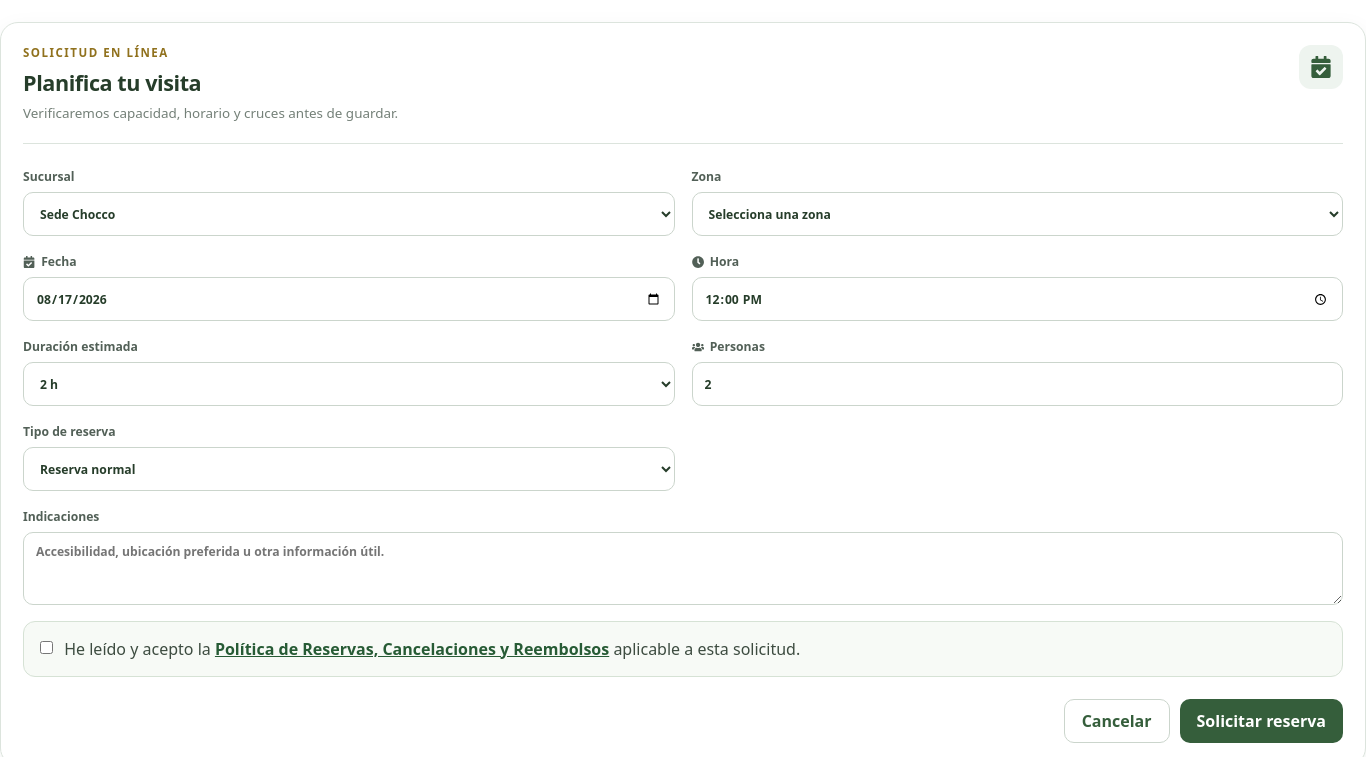
Test: ReservationForm › muestra junto al formulario el error devuelto por el servidor
Select "Salón · hasta 20 personas" in the dropdown labelled "Zona": (1017,214) left=692, top=192, right=1343, bottom=236
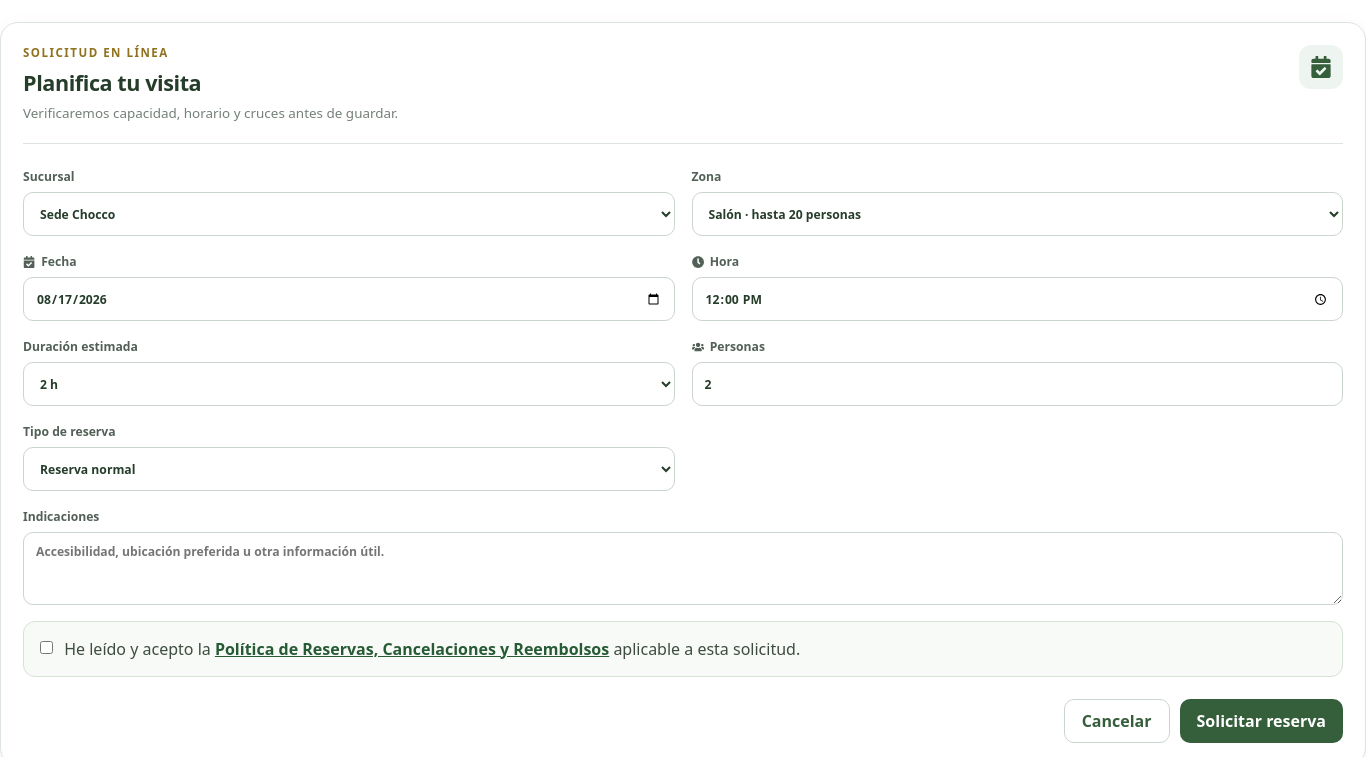
Click the checkbox labelled "He leído y acepto": (46,647) left=40, top=640, right=53, bottom=654
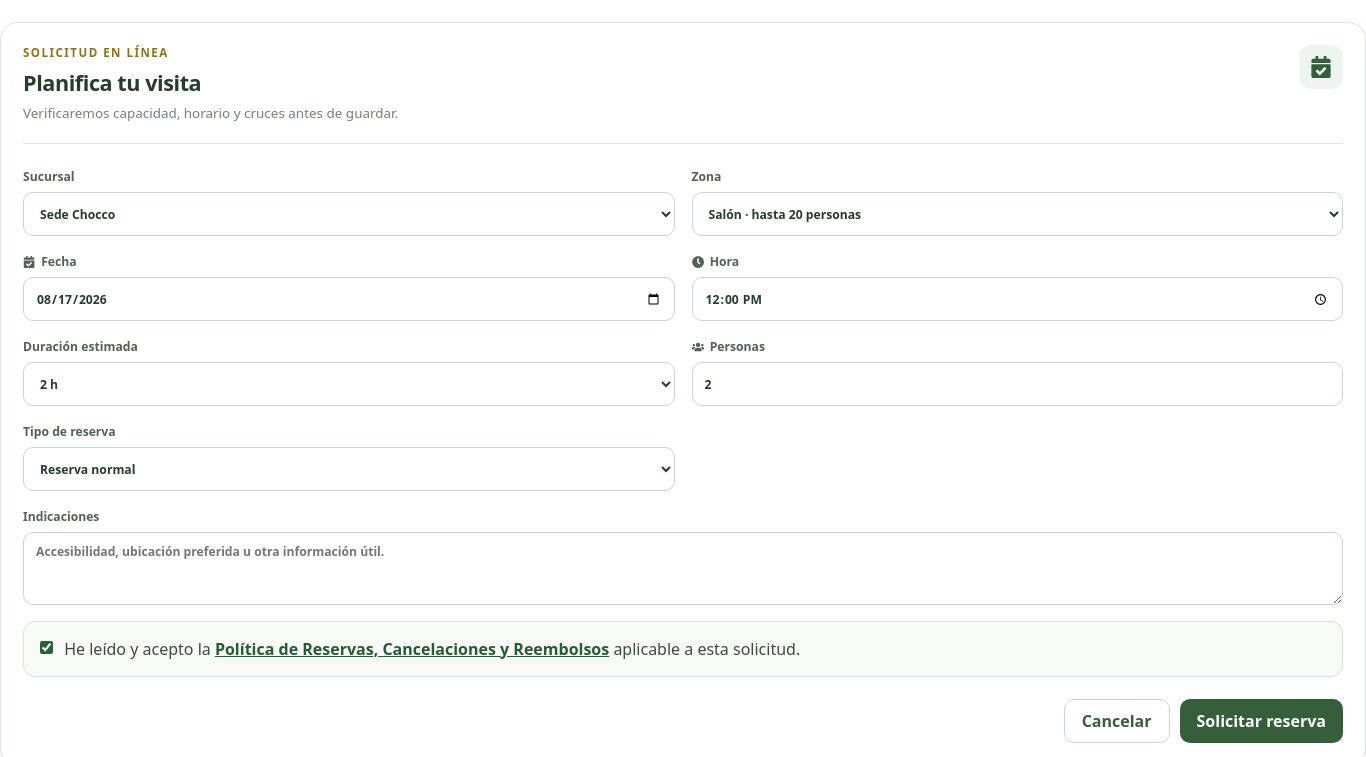
In the date field labelled "Fecha": (349,299) left=23, top=277, right=674, bottom=321, type "2030-08-08"
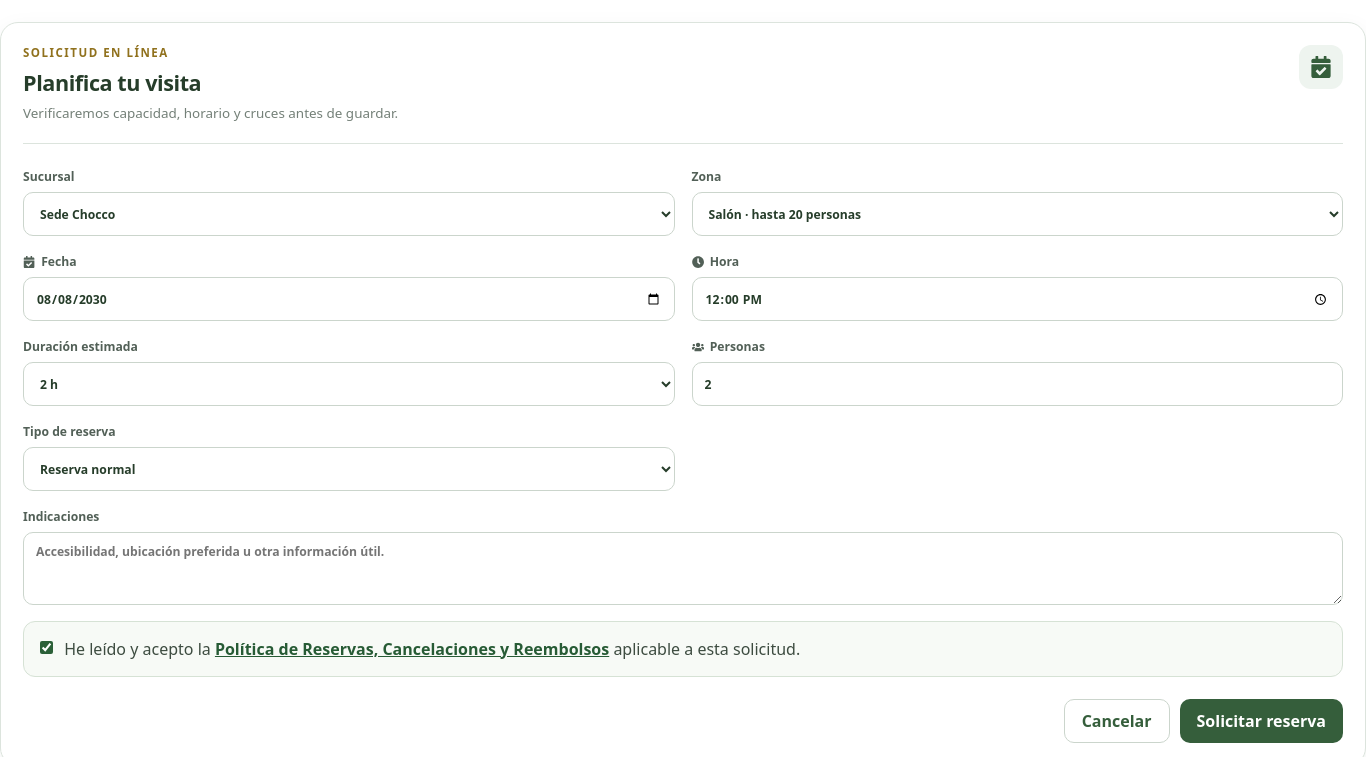
Click the button "Solicitar reserva": (1261,721) left=1180, top=699, right=1343, bottom=743
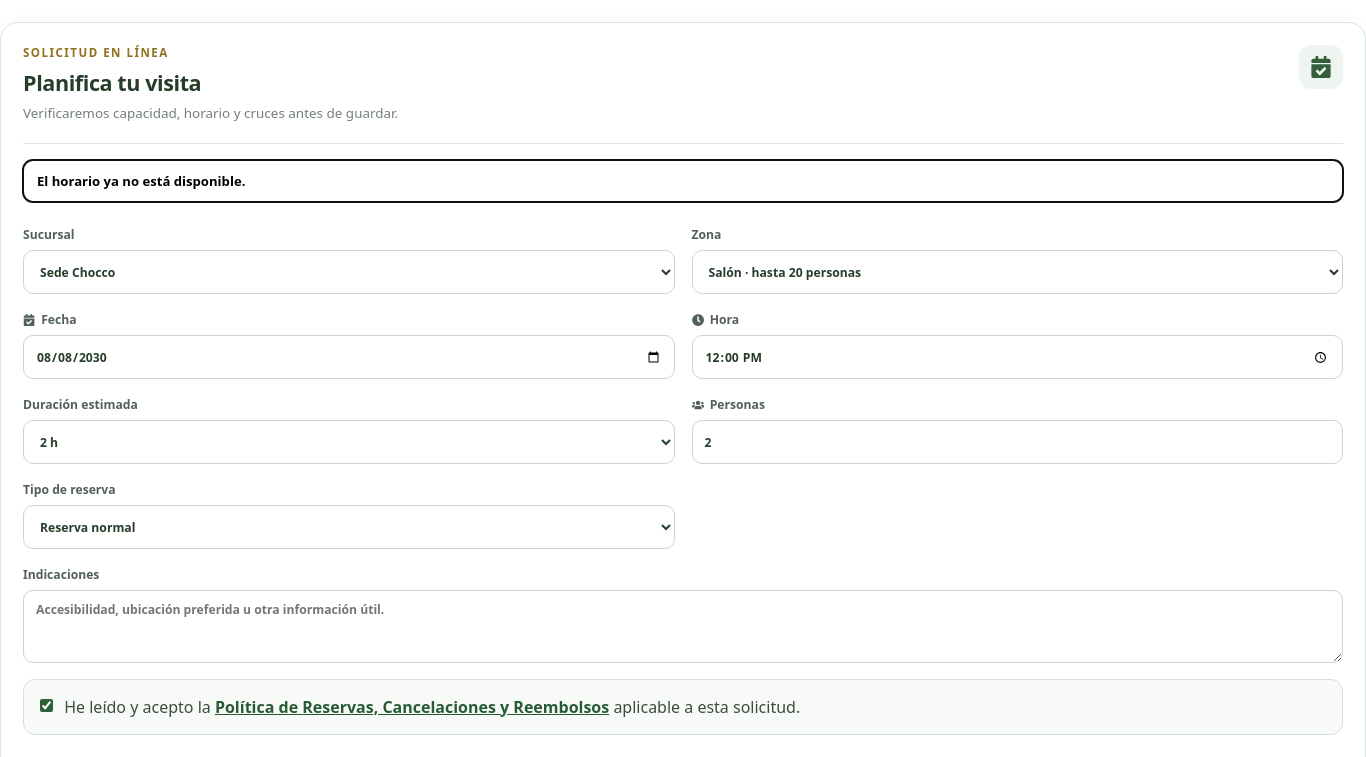
Check: the message reads "El horario ya no está disponible.", box left=37, top=172, right=245, bottom=190
